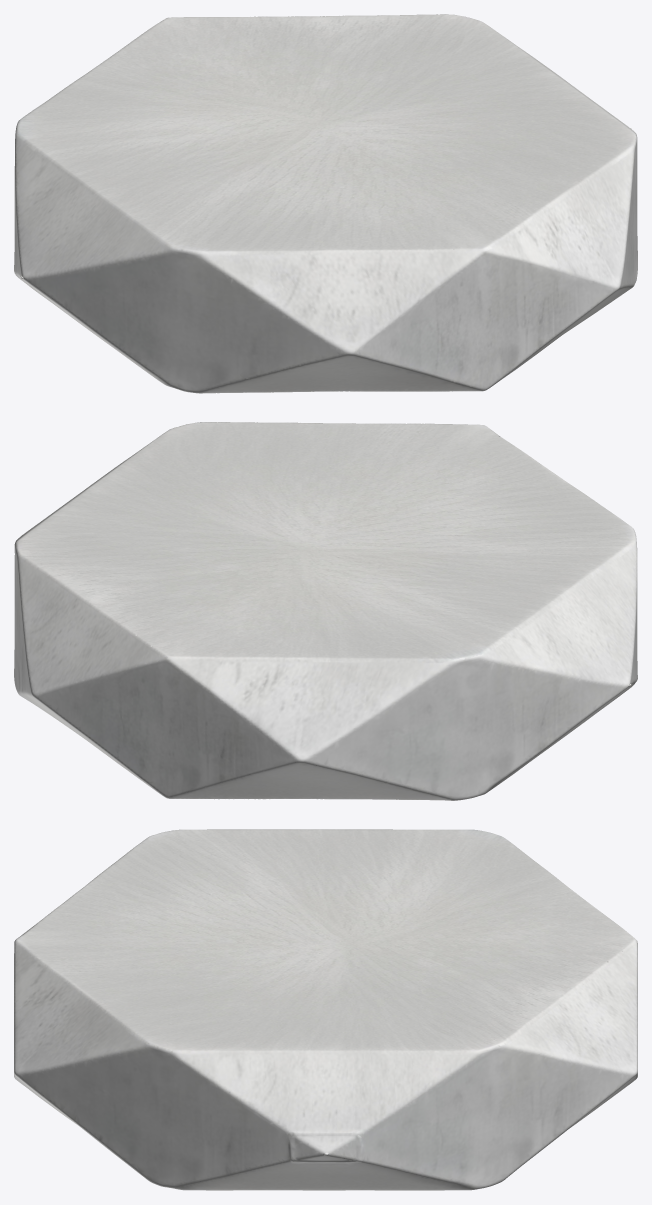
File: product-scandinavian-volker-white-coffee-table-05.glb
3 renders of one model, top to bottom at view 1: azimuth 30°, elevation 25°; view 2: azimuth 150°, elevation 25°; view 3: azimuth 270°, elevation 25°, orthographic. The views are drawn at different scales.
Visible parts, largest first — view 1: geometry_0; view 2: geometry_0; view 3: geometry_0.
Boxes of the visible parts, bbox=[...] form: geometry_0: bbox=[14, 14, 637, 393]; geometry_0: bbox=[14, 422, 637, 800]; geometry_0: bbox=[14, 829, 637, 1190].
Size of the model in its own units: 1.99 by 0.4447 by 1.8.
1 material, 1 textured.
